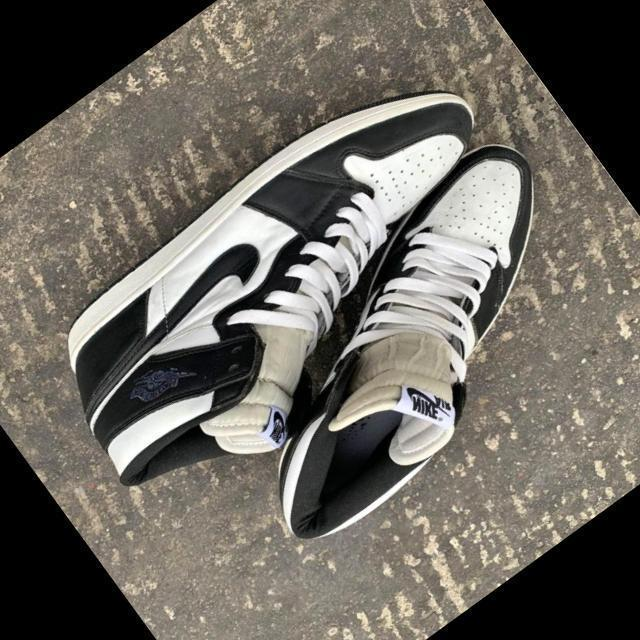nike fake jordan 1: (14, 35, 576, 536), (164, 122, 640, 562)
